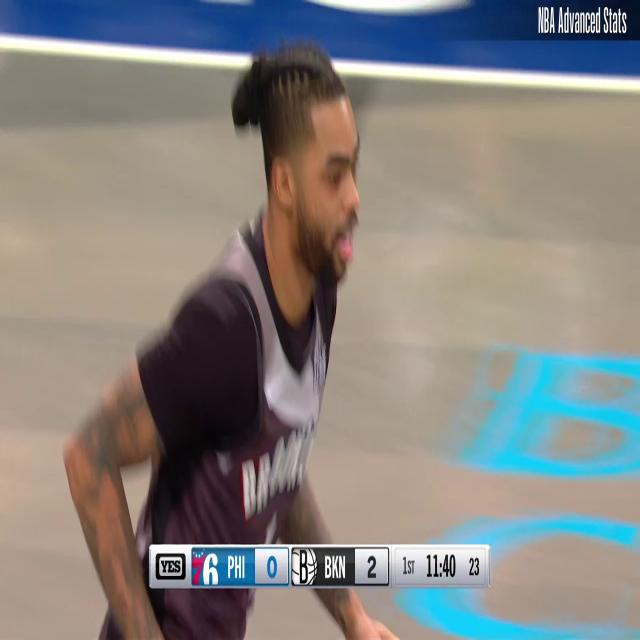player: (62, 38, 400, 638)
